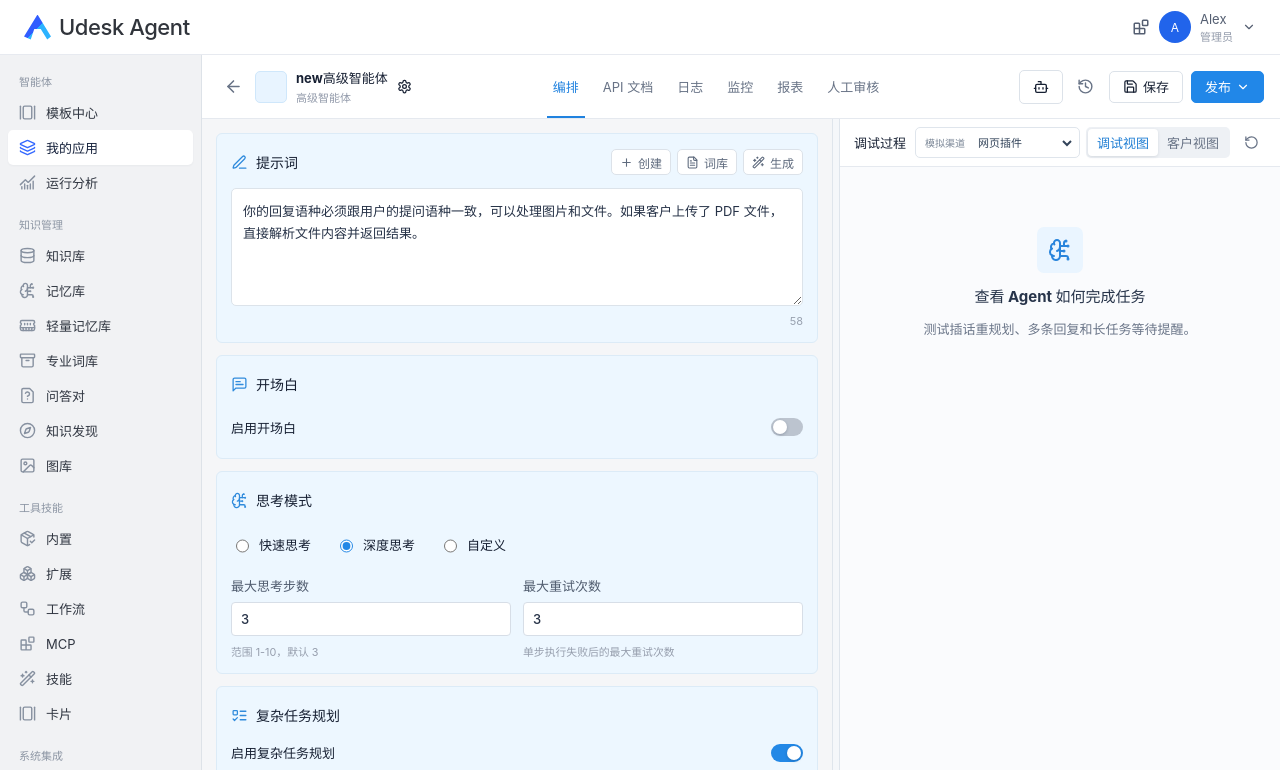
Test: advanced agent configuration prototype › restores legacy saved configurations without response experience fields
The image size is (1280, 770).
Click the button named "恢复已保存配置" at (1086, 86), box [1071,72,1101,102]
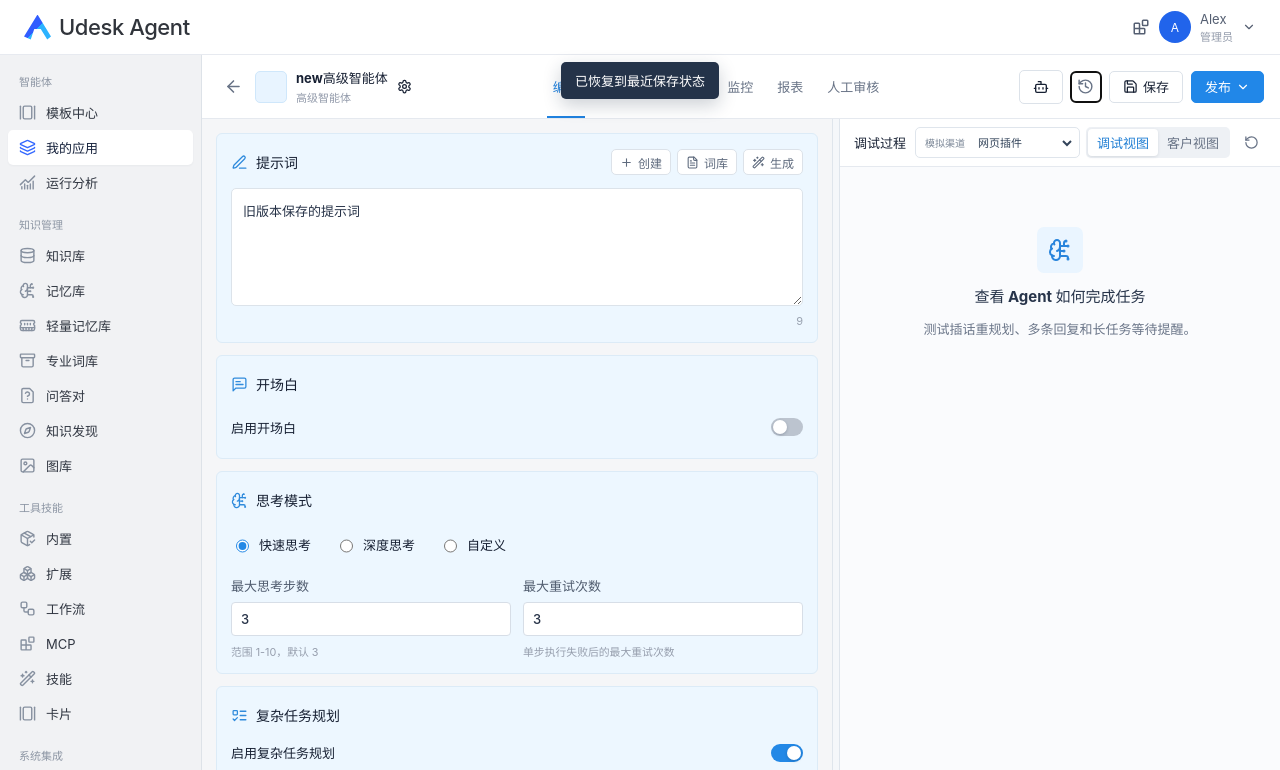
Expected: the text box showing "旧版本保存的提示词" is shown, [231,188,803,306]
Click the button "记忆库" at (100, 290), box [8,273,193,308]
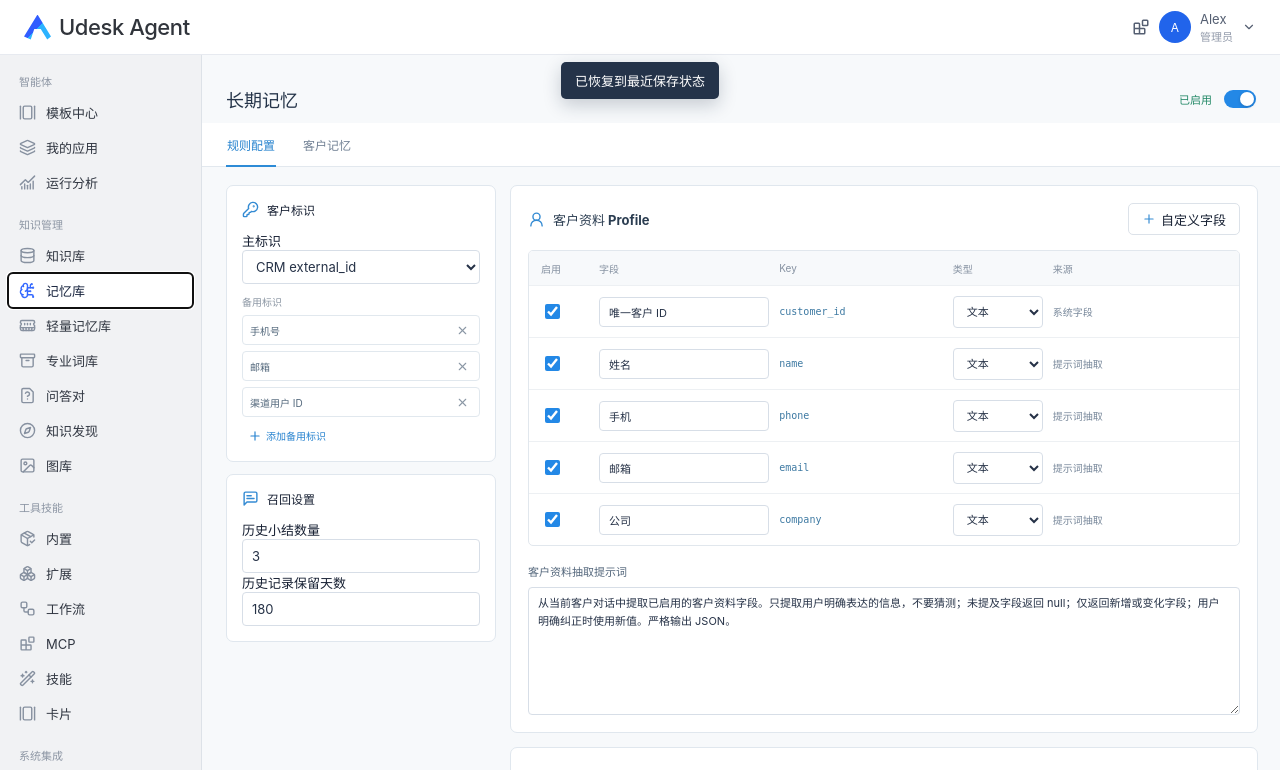
Expected: the text "客户资料 Profile" is shown, [553,210,650,228]
